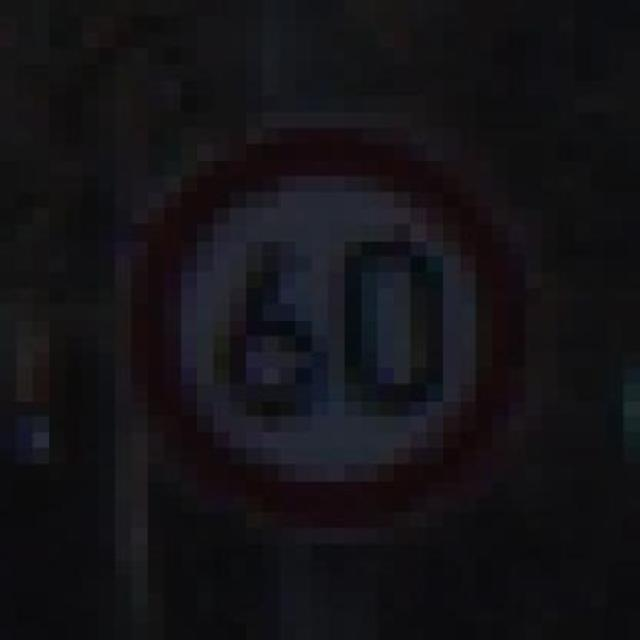forb_speed_over_60: (140, 139, 512, 515)
